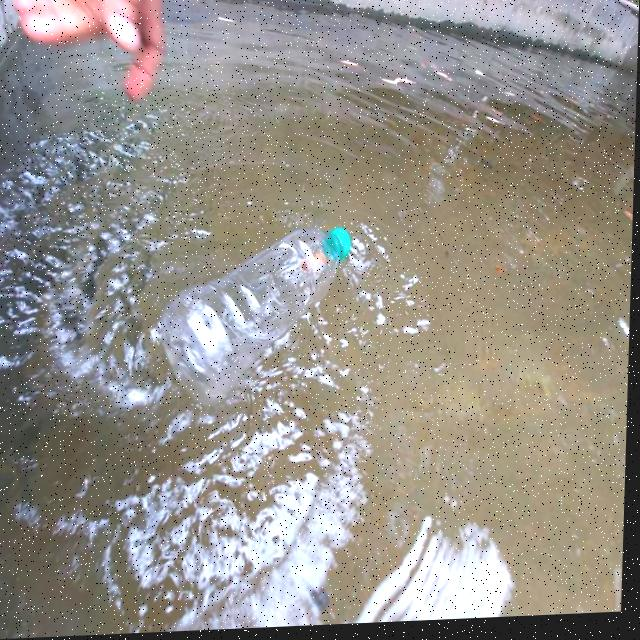waterbottle: (151, 220, 370, 399)
